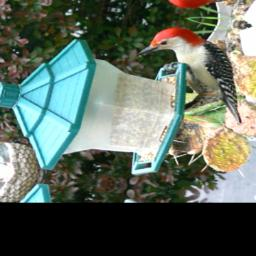Woodpecker: (123, 23, 256, 125)
